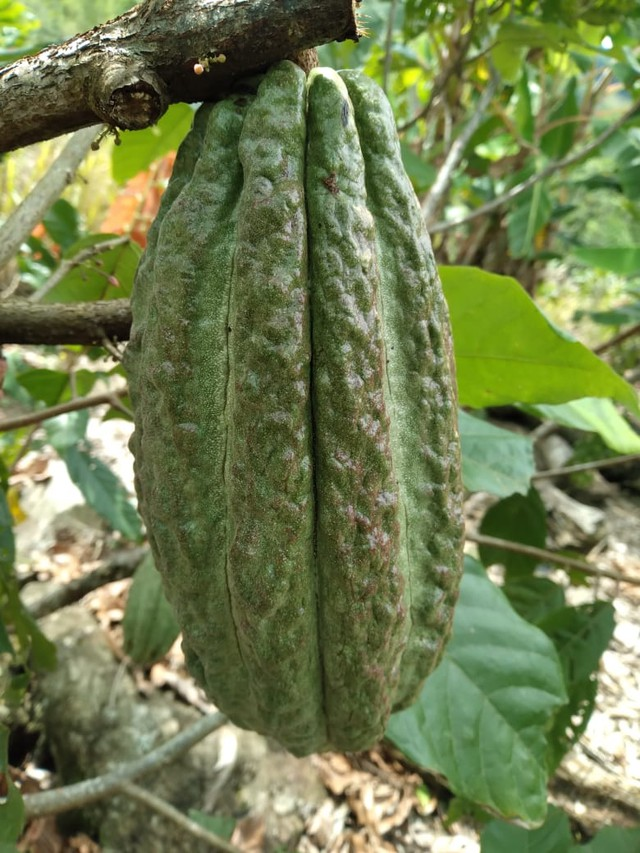Health: (86, 35, 506, 781)
